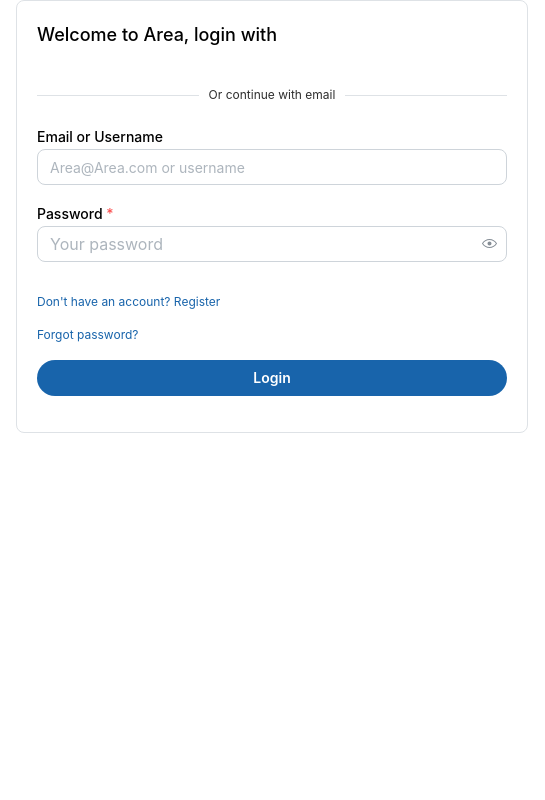
Test: AuthenticationForm › validates password confirmation in register mode
// Switch to register mode
Click the button "Don't have an account? Register": (129, 302) [37,294,220,311]
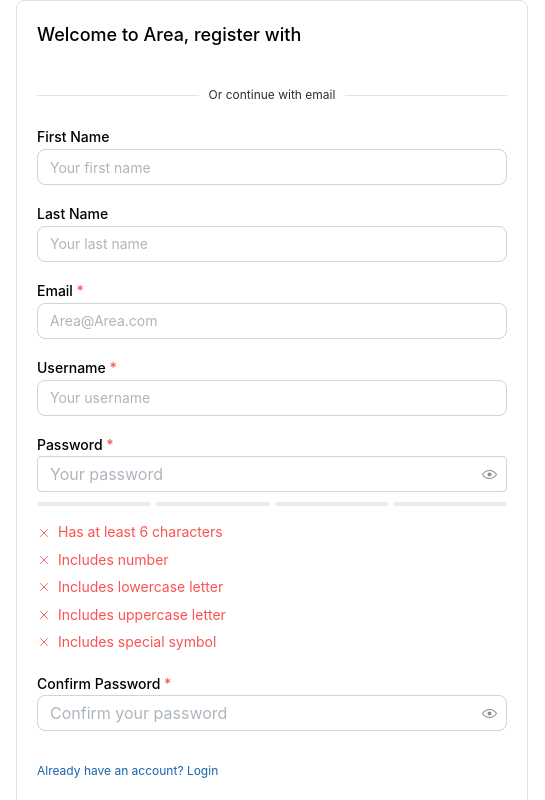
In the password field with placeholder "Your password": (272, 474) [38,457,506,491], type "password123"
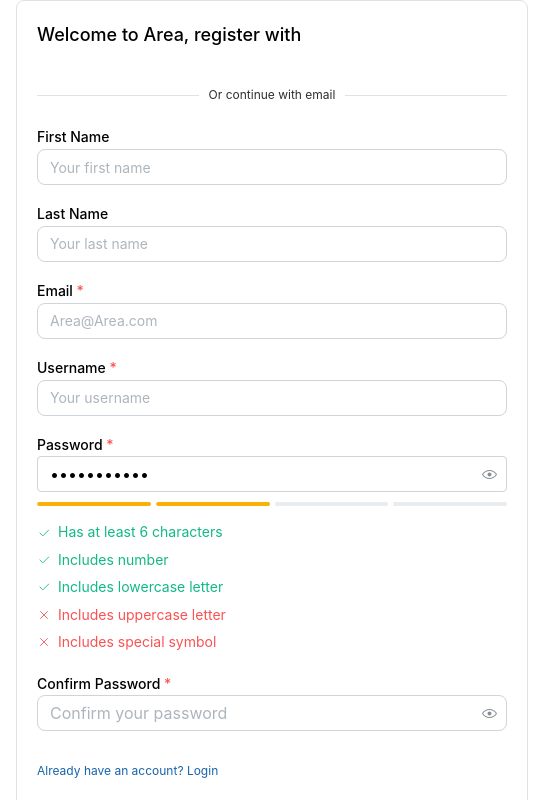
In the password field with placeholder "Confirm your password": (272, 713) [38,696,506,730], type "differentpassword"
(page scrolled)
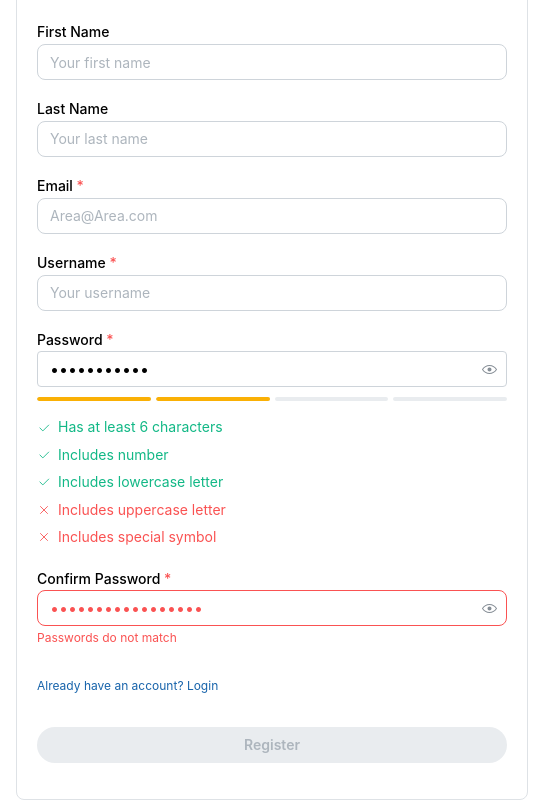
Expected: the text "Passwords do not match" is shown, [37,630,177,645]
